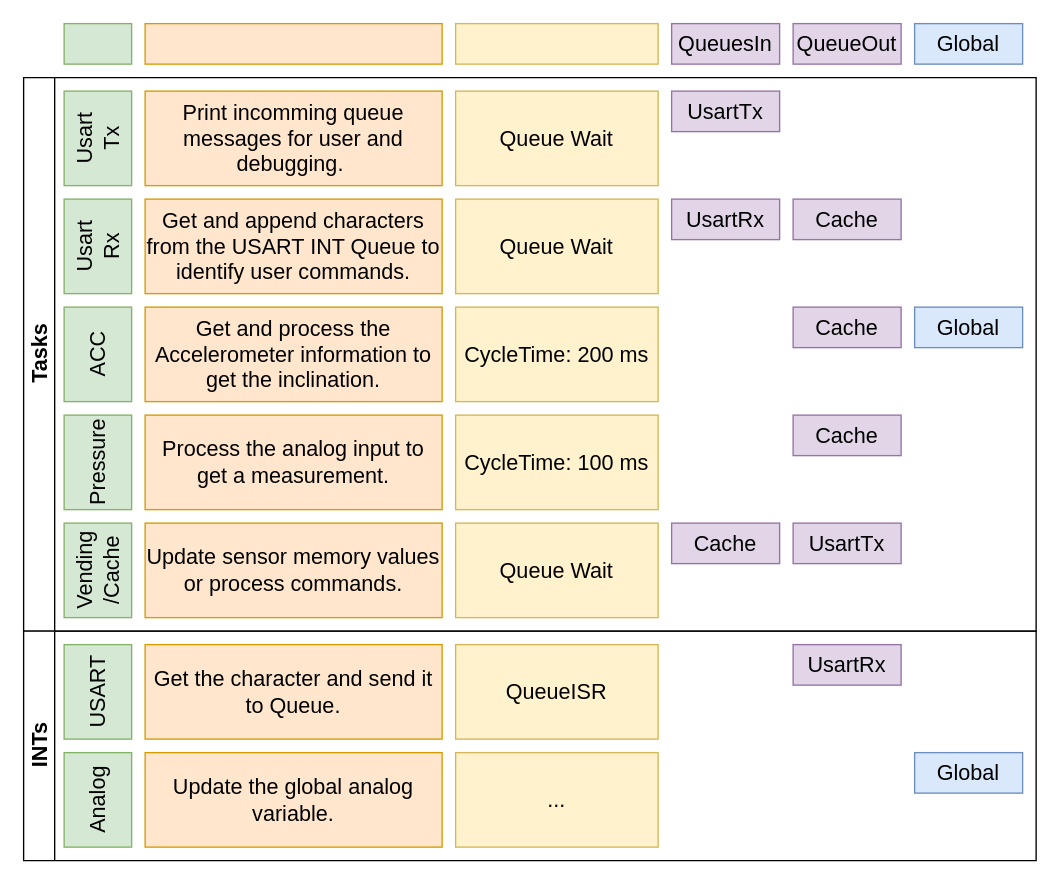
Some shapes in this 1060 by 884 pixel diagram are drawn without their labels. Each missing label, with the centre of its shape:
"Details" goes at (293,43).
"Name" goes at (97,43).
"Task Details" goes at (556,43).
